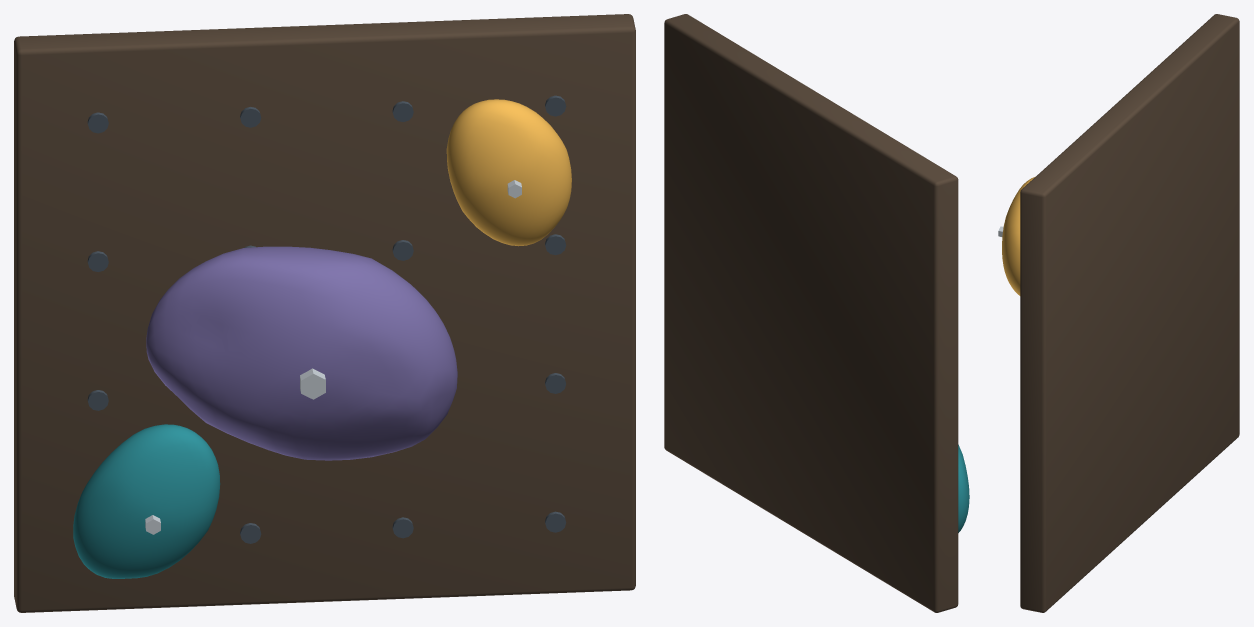
The model's file is climbing-hold.glb.
3 renders of one model, left to right at view 1: azimuth 30°, elevation 25°; view 2: azimuth 150°, elevation 25°; view 3: azimuth 270°, elevation 25°, orthographic. The views are drawn at different scales.
Visible parts, largest first — view 1: titan.hold.wall, titan.hold.resin.0, titan.hold.resin.2, titan.hold.resin.1; view 2: titan.hold.wall, titan.hold.resin.2; view 3: titan.hold.wall, titan.hold.resin.1.
Part boxes in pixels (x1,y1,x2,y2): titan.hold.wall: (14, 14, 635, 612); titan.hold.resin.0: (146, 246, 457, 460); titan.hold.resin.2: (73, 424, 220, 578); titan.hold.resin.1: (446, 99, 571, 246); titan.hold.wall: (664, 14, 958, 612); titan.hold.resin.2: (958, 444, 969, 532); titan.hold.wall: (1020, 14, 1239, 612); titan.hold.resin.1: (1002, 176, 1035, 295).
Bounding box in the file's own units: 1.21 × 1.3 × 0.6764.
